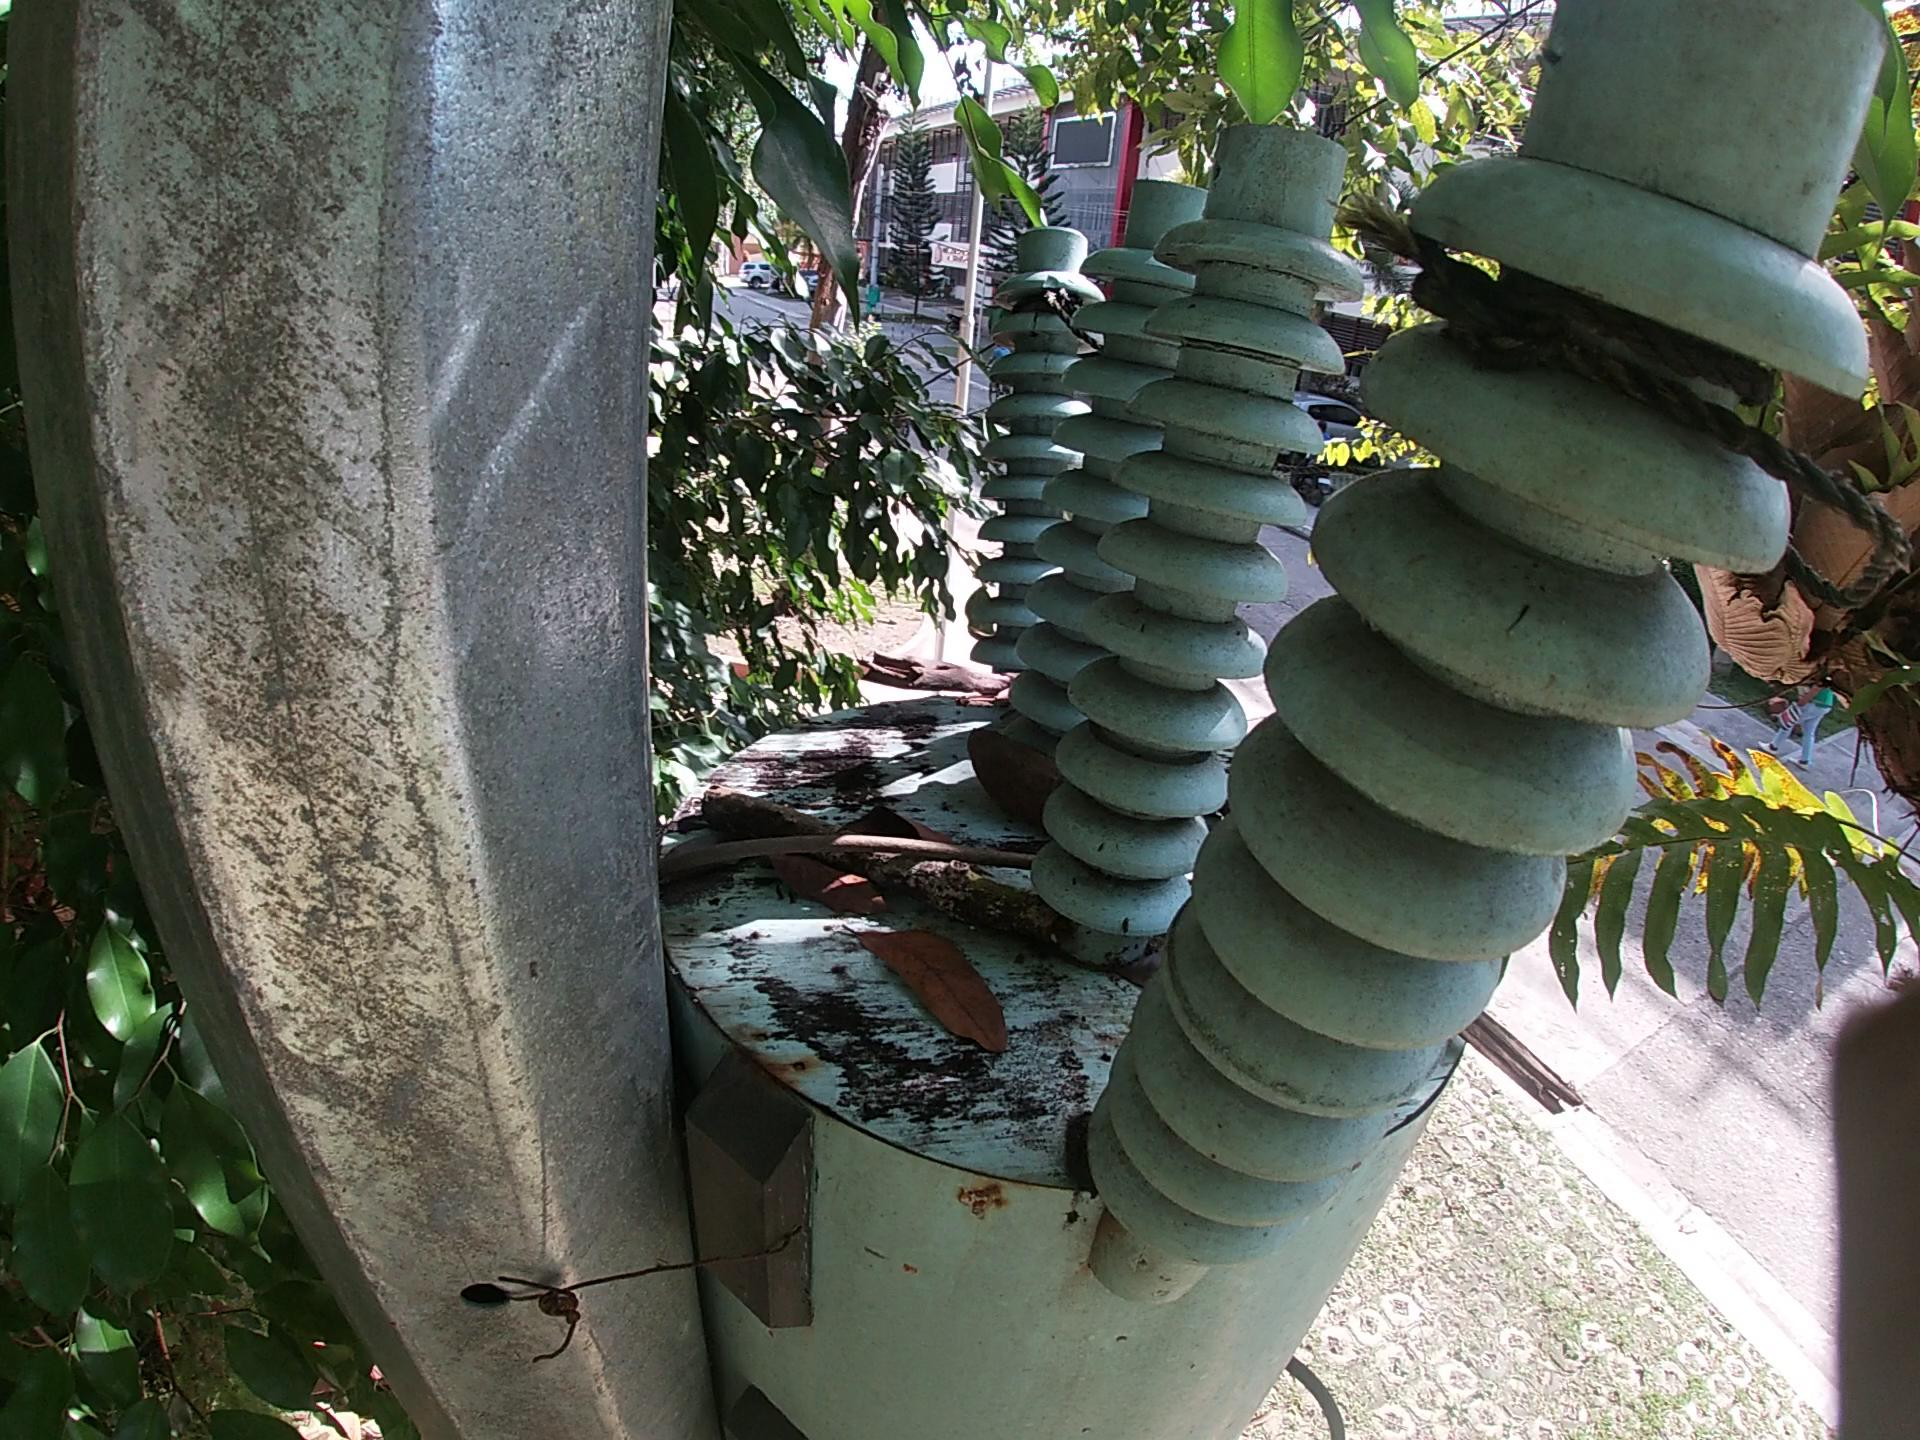leaf: (847, 923, 1023, 1041), (751, 856, 901, 926), (862, 793, 942, 838)
mahogany fruit: (957, 725, 1048, 806)
tree branch: (705, 784, 1181, 980), (662, 833, 1049, 892), (1459, 1007, 1587, 1131), (844, 644, 1002, 691)
